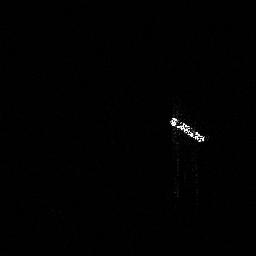ship: (165, 113, 210, 147)
